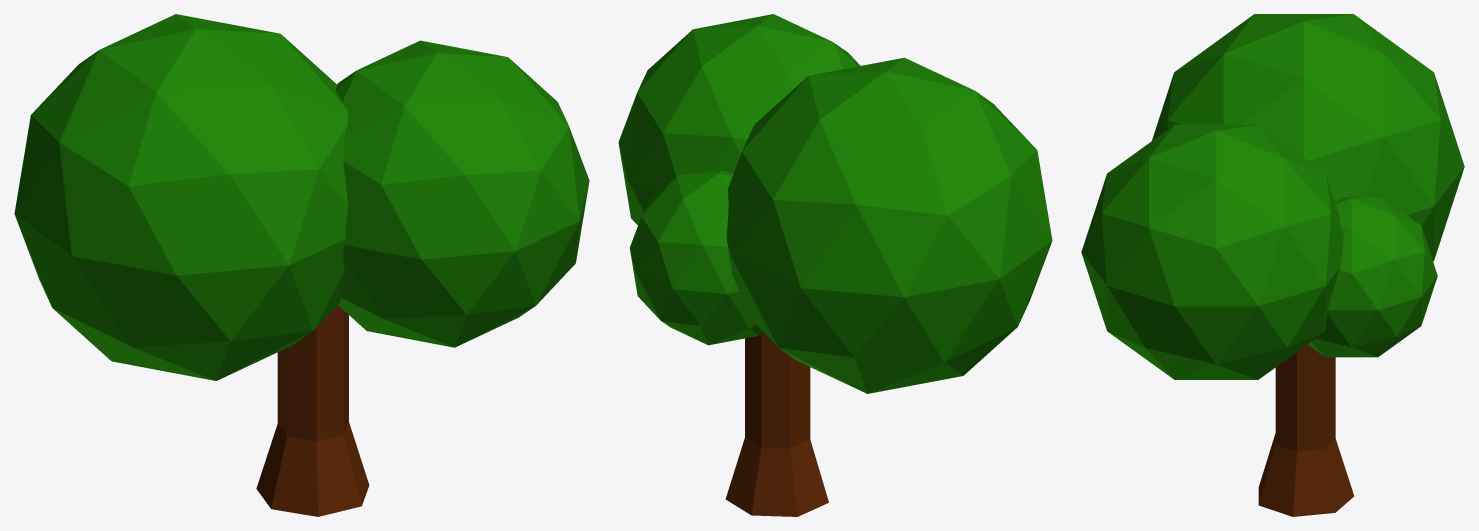
File: Tree.fbx
3 views of the same model, side by side, from view 1: azimuth 30°, elevation 25°; view 2: azimuth 150°, elevation 25°; view 3: azimuth 270°, elevation 25° (orthographic). The views are drawn at different scales.
Visible parts, largest first — view 1: Tree; view 2: Tree; view 3: Tree.
Part boxes in pixels (bbox=[...]): Tree: bbox=[14, 14, 589, 516]; Tree: bbox=[618, 14, 1052, 516]; Tree: bbox=[1081, 14, 1464, 516].
Size of the model in its own units: 143 by 143 by 116.
